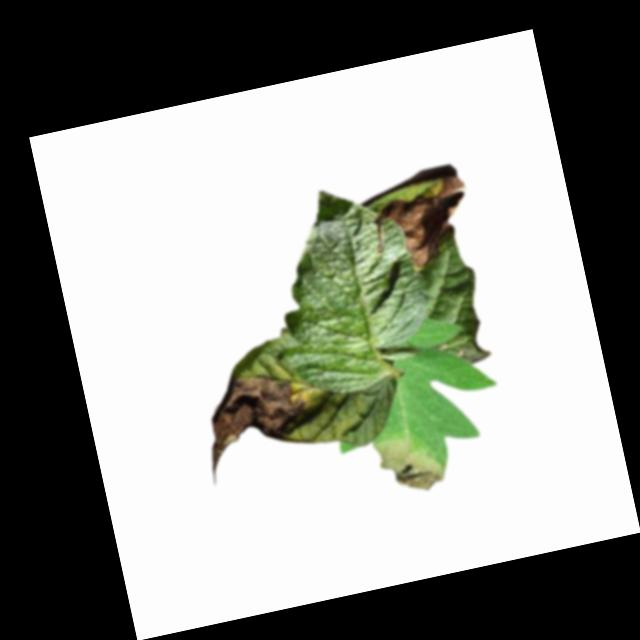Late_blight: (190, 356, 319, 486), (372, 170, 482, 273), (374, 427, 450, 500)
healthy: (244, 171, 445, 407)
